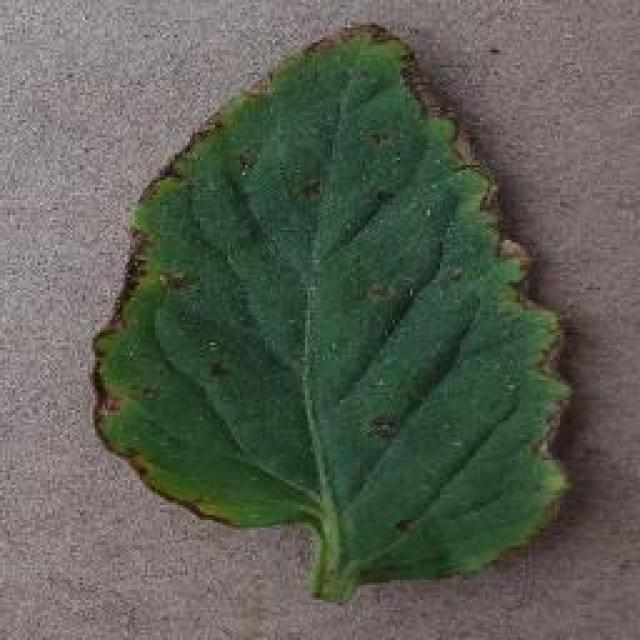bacterial spot: (84, 17, 579, 612)
